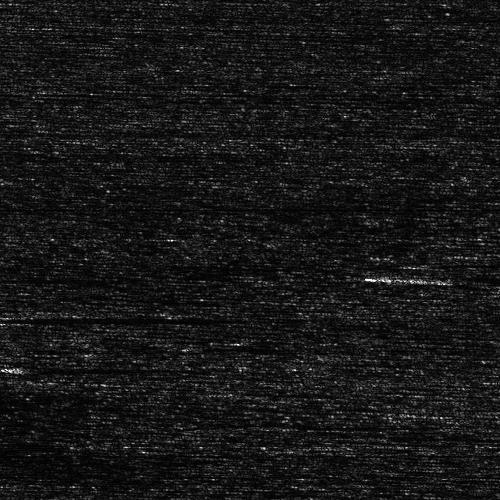object: (356, 273, 471, 282), (389, 260, 482, 267), (204, 389, 277, 394), (155, 343, 218, 348), (0, 362, 39, 369), (0, 274, 32, 281), (263, 424, 316, 427), (295, 447, 316, 450)
shadow: (0, 312, 284, 325), (12, 362, 178, 369), (0, 274, 147, 281), (414, 273, 500, 282), (436, 260, 500, 267), (241, 389, 327, 394), (187, 343, 273, 348), (290, 424, 378, 427), (306, 447, 393, 450)
